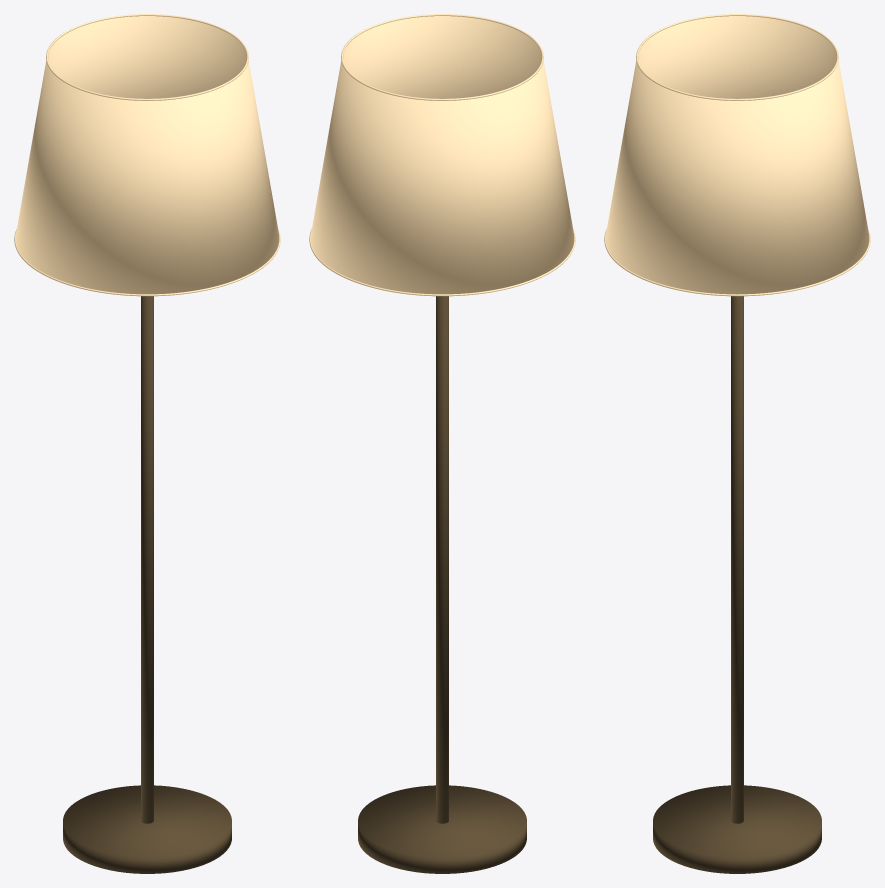
The model's file is floor-lamp-open-shade.glb.
The picture shows the model from 3 angles, left to right: view 1: azimuth 30°, elevation 25°; view 2: azimuth 150°, elevation 25°; view 3: azimuth 270°, elevation 25°; orthographic projection.
Visible parts, largest first — view 1: Open translucent linen shade, Lamp base, Lamp stem, Linen shade edge.001, Linen shade edge; view 2: Open translucent linen shade, Lamp base, Lamp stem, Linen shade edge.001, Linen shade edge; view 3: Open translucent linen shade, Lamp base, Lamp stem, Linen shade edge.001, Linen shade edge.
Part boxes in pixels (box(x1,y1,x2,y2)): Open translucent linen shade: box(15, 16, 279, 294); Lamp base: box(63, 785, 231, 873); Lamp stem: box(141, 296, 153, 823); Linen shade edge.001: box(46, 14, 248, 100); Linen shade edge: box(14, 229, 280, 296); Open translucent linen shade: box(310, 16, 574, 294); Lamp base: box(358, 785, 526, 873); Lamp stem: box(436, 296, 448, 823); Linen shade edge.001: box(341, 14, 543, 100); Linen shade edge: box(309, 229, 575, 296); Open translucent linen shade: box(605, 16, 869, 294); Lamp base: box(653, 785, 821, 873); Lamp stem: box(731, 296, 743, 823); Linen shade edge.001: box(636, 14, 838, 100); Linen shade edge: box(604, 229, 870, 296).
Size of the model in its own units: 0.504 by 1.63 by 0.504.
